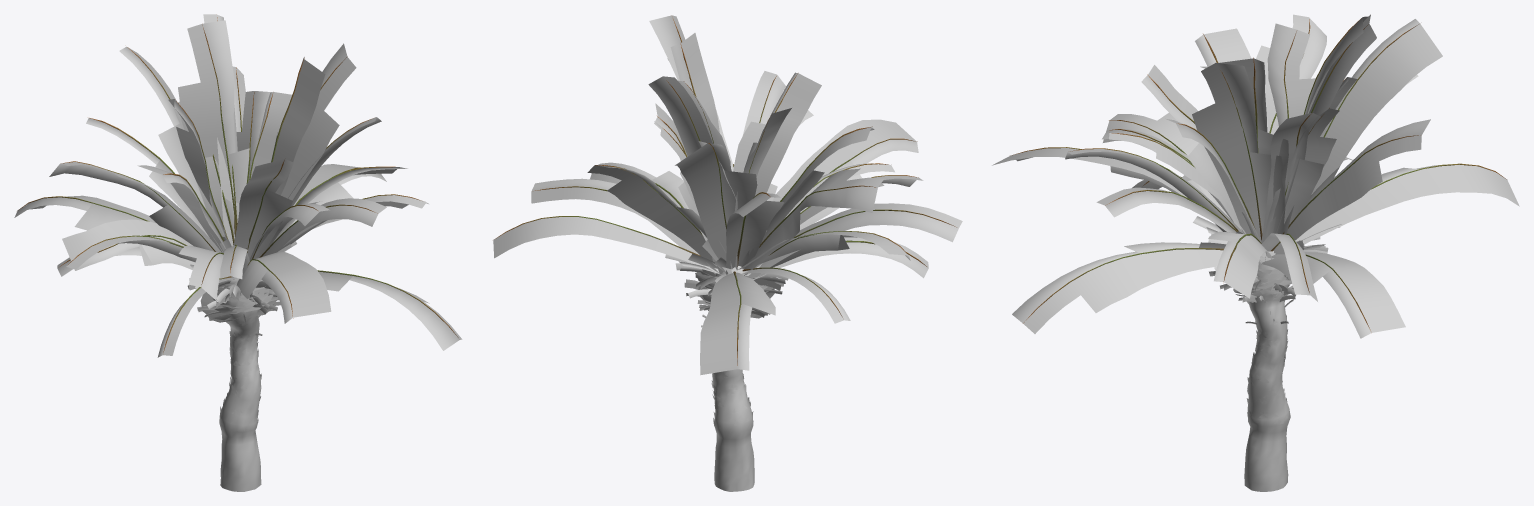
File: Plant3_1_L0.fbx
The picture shows the model from 3 angles, left to right: view 1: azimuth 30°, elevation 25°; view 2: azimuth 150°, elevation 25°; view 3: azimuth 270°, elevation 25°; orthographic projection. The views are drawn at different scales.
Parts seen in each view (by area): view 1: polySurface38; view 2: polySurface38; view 3: polySurface38.
Part boxes in pixels (x1,y1,x2,y2): polySurface38: [14, 14, 462, 491]; polySurface38: [493, 15, 962, 491]; polySurface38: [992, 14, 1519, 491].
Bounding box in the file's own units: 662 × 702 × 709.
